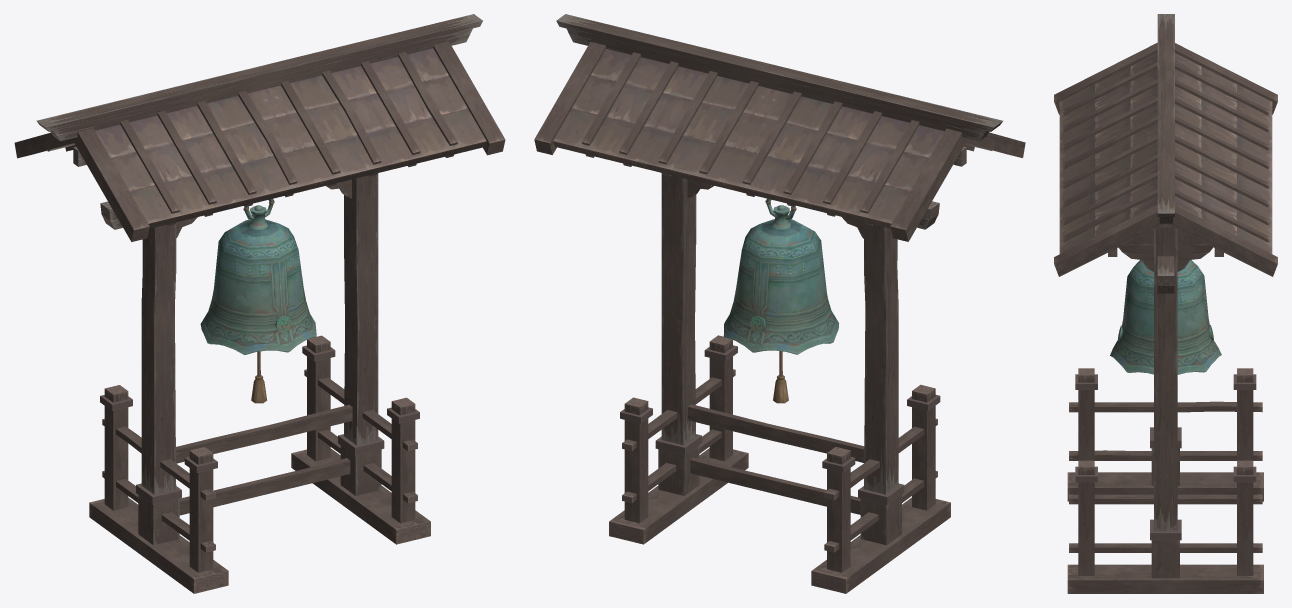
File: Homeworld_Exterior_Dq_Decoration_Clockstand_01_Lod0.fbx
3 renders of one model, left to right at view 1: azimuth 30°, elevation 25°; view 2: azimuth 150°, elevation 25°; view 3: azimuth 270°, elevation 25°, orthographic. The views are drawn at different scales.
Visible parts, largest first — view 1: Area_Dq_Prop_MS_Clock_01_Lod0; view 2: Area_Dq_Prop_MS_Clock_01_Lod0; view 3: Area_Dq_Prop_MS_Clock_01_Lod0.
Boxes of the visible parts, x1,y1,x2,y2 form: Area_Dq_Prop_MS_Clock_01_Lod0: (14, 14, 505, 593); Area_Dq_Prop_MS_Clock_01_Lod0: (534, 14, 1025, 593); Area_Dq_Prop_MS_Clock_01_Lod0: (1054, 14, 1277, 593).
Bounding box in the file's own units: 3.93 × 3.91 × 1.86.
